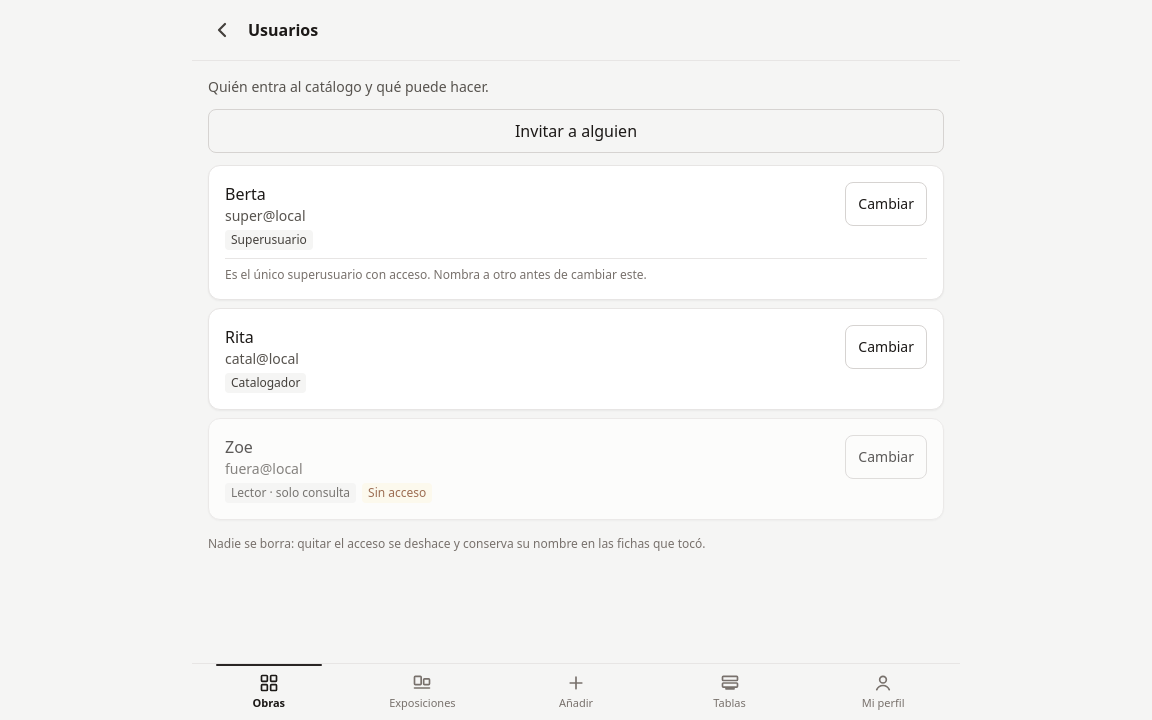
Test case: cambiar el rol › y si la base no toca nada, la pantalla NO dice que se cambió
Expected: the text "Rita" is shown, [225,326,254,348]
Click the button "Cambiar" in the row of "catal@local" at {"x": 886, "y": 347}, box [845,325,927,369]
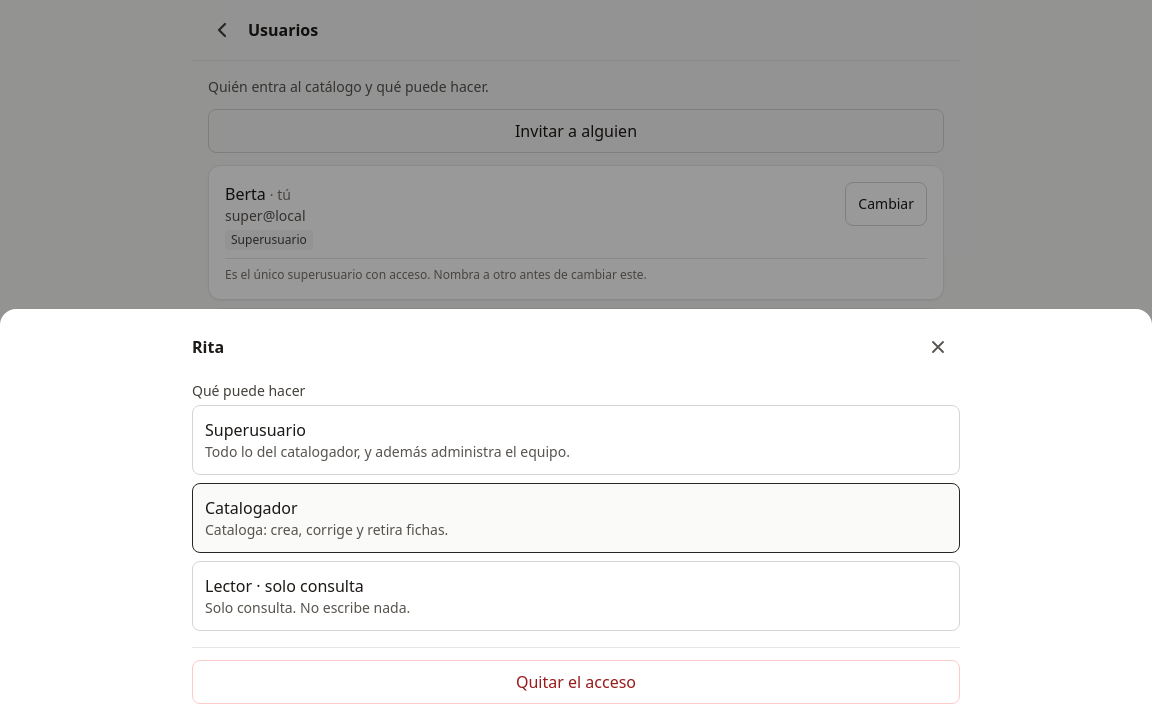
Click the text "Lector · solo consulta" at {"x": 284, "y": 586}, box [205,575,364,597]
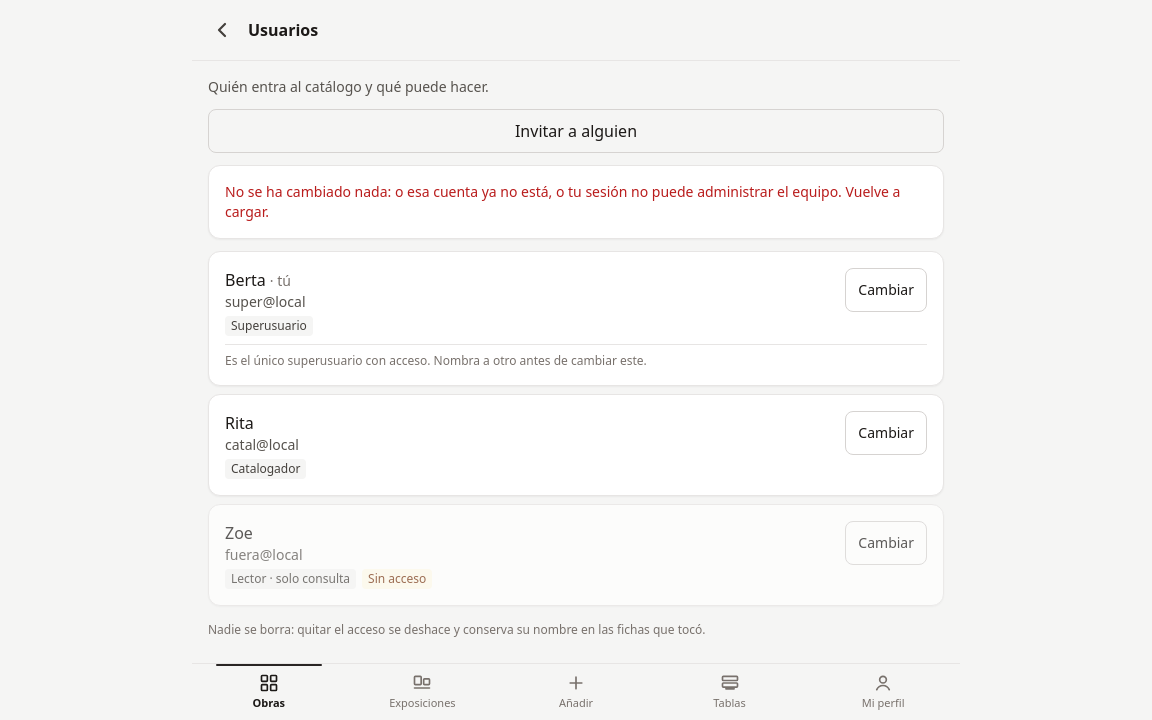
Expected: the message is shown, [208,165,944,239]
Expected: the message shows "No se ha cambiado nada", [225,182,900,221]
